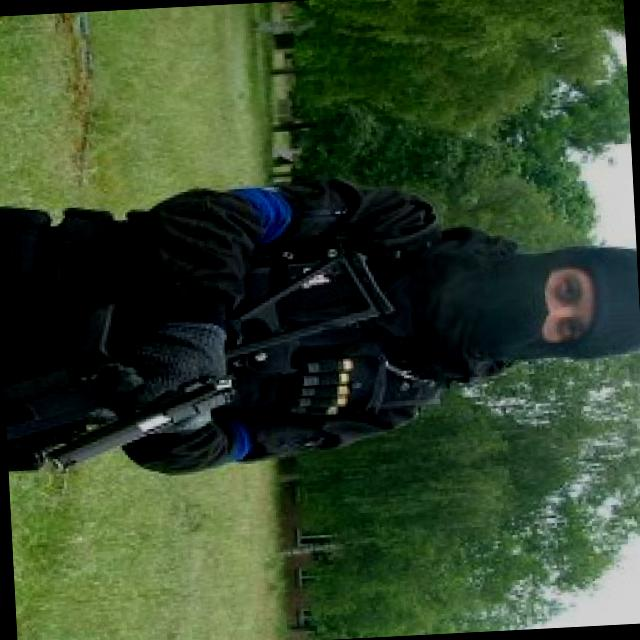long weapon: (0, 251, 391, 494)
